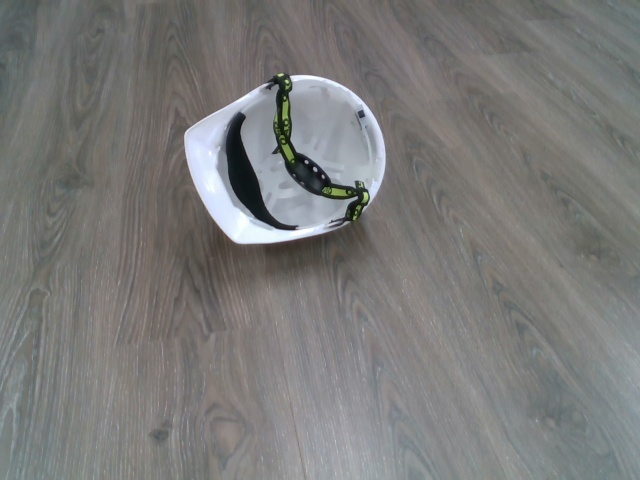helmet: (175, 66, 394, 250)
